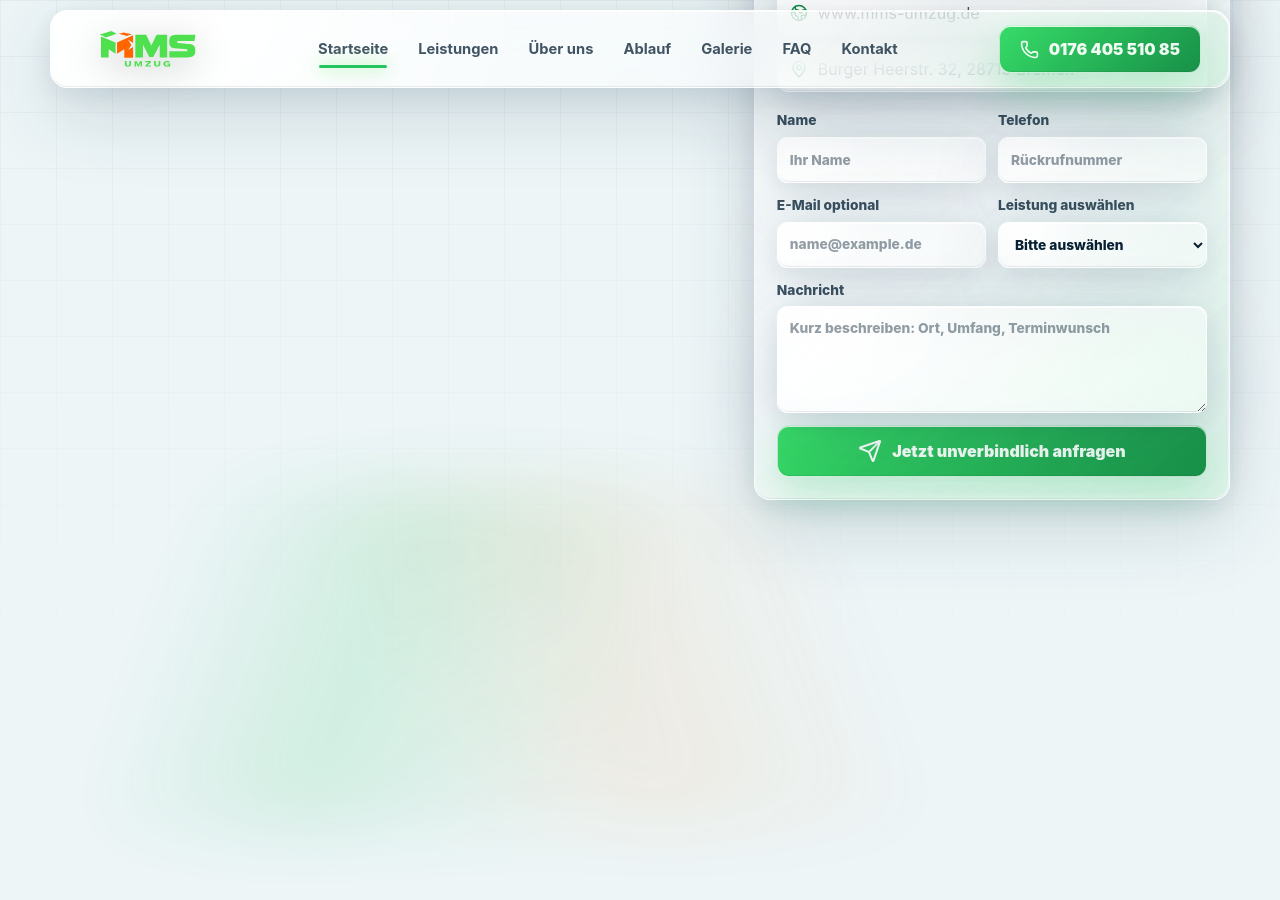
Test: App › validates the contact form before submission
This screenshot has width=1280, height=900.
(page scrolled)
Click the button "Jetzt unverbindlich anfragen": (992, 451) [777, 425, 1207, 477]
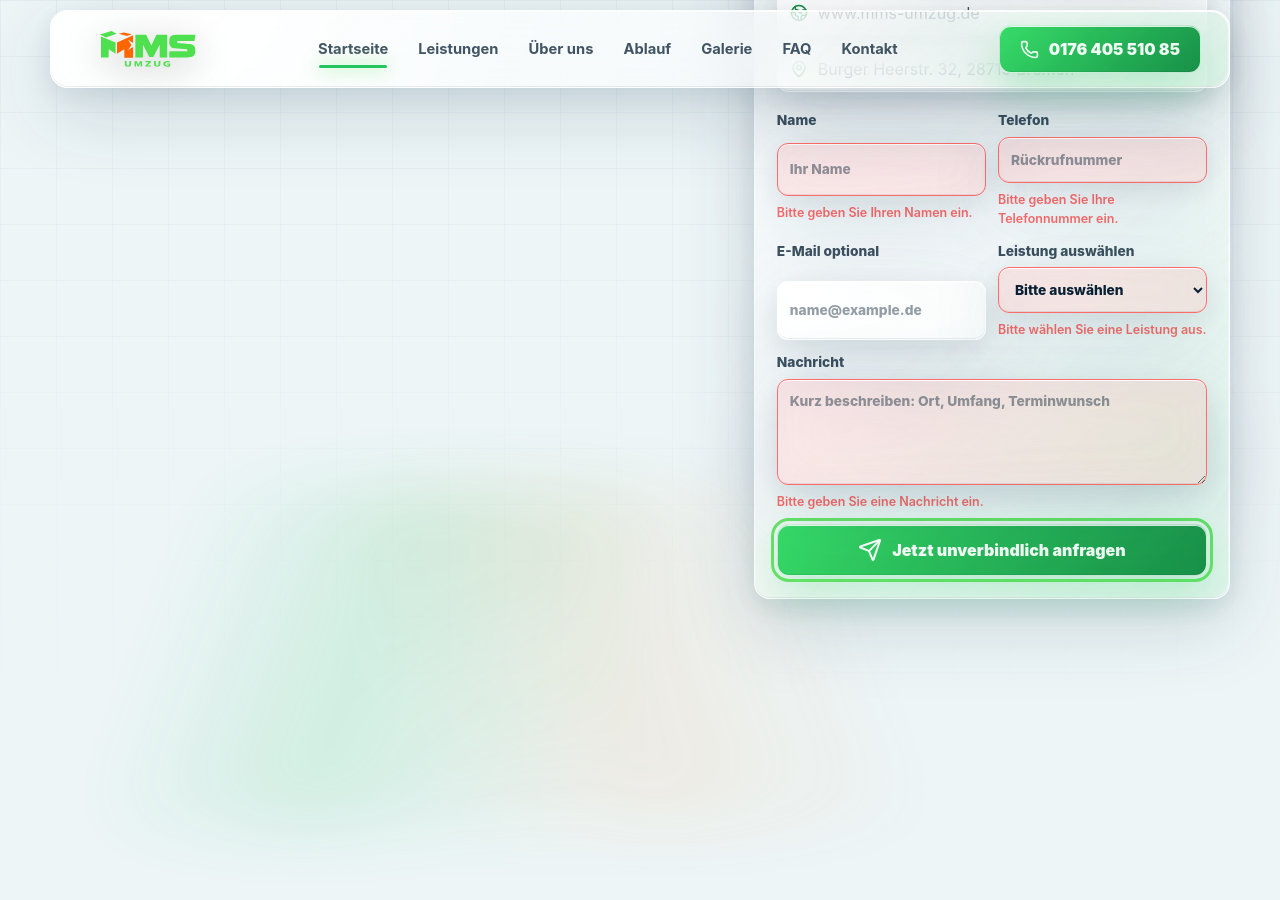
Expected: the text "Bitte geben Sie Ihren Namen ein." is shown, [777, 204, 986, 228]
Expected: the text "Bitte geben Sie Ihre Telefonnummer ein." is shown, [998, 192, 1118, 226]
